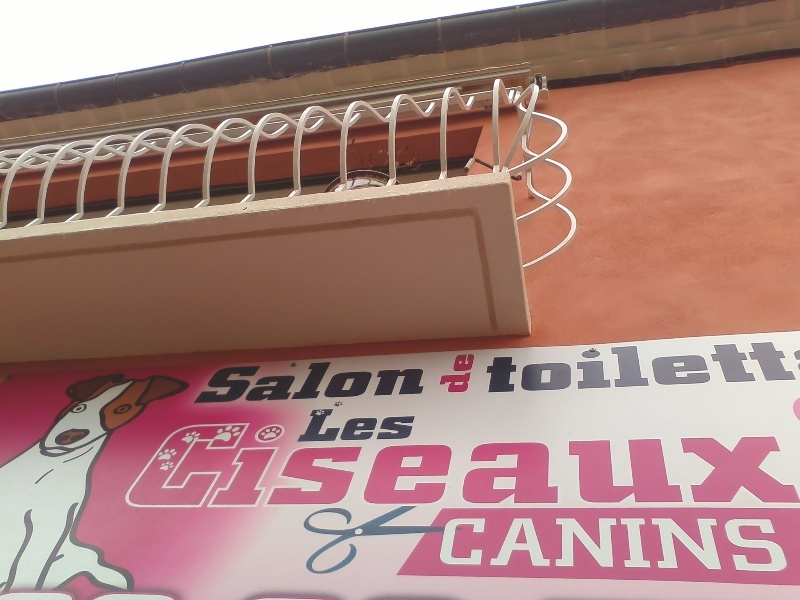text: (193, 419, 208, 509), (209, 419, 224, 509), (225, 419, 240, 509), (241, 419, 256, 509), (257, 419, 272, 509), (273, 419, 288, 509), (289, 419, 304, 509), (305, 419, 320, 509), (321, 419, 336, 509), (337, 419, 352, 509), (353, 419, 368, 509), (369, 419, 384, 509), (385, 419, 400, 509), (401, 419, 416, 509), (417, 419, 432, 509), (433, 419, 448, 509), (449, 419, 464, 509), (465, 419, 480, 509), (481, 419, 496, 509), (497, 419, 512, 509), (513, 419, 528, 509), (529, 419, 544, 509), (545, 419, 560, 509), (561, 419, 576, 509), (577, 419, 592, 509), (593, 419, 608, 509), (609, 419, 624, 509), (625, 419, 640, 509), (641, 419, 656, 509), (657, 419, 672, 509), (673, 419, 688, 509), (689, 419, 704, 509), (705, 419, 720, 509), (721, 419, 736, 509), (737, 419, 752, 509), (753, 419, 768, 509), (769, 419, 784, 509), (785, 419, 800, 509), (179, 419, 192, 509), (449, 515, 464, 574), (465, 515, 480, 574), (481, 515, 496, 574), (497, 515, 512, 574), (513, 515, 528, 574), (529, 515, 544, 574), (545, 515, 560, 574), (561, 515, 576, 574), (577, 515, 592, 574), (593, 515, 608, 574), (609, 515, 624, 574), (625, 515, 640, 574), (641, 515, 656, 574), (657, 515, 672, 574), (673, 515, 688, 574), (689, 515, 704, 574), (705, 515, 720, 574), (721, 515, 736, 574), (737, 515, 752, 574), (753, 515, 768, 574), (769, 515, 784, 574), (497, 338, 512, 395), (513, 338, 528, 395), (529, 338, 544, 395), (545, 338, 560, 395), (561, 338, 576, 395), (577, 338, 592, 395), (593, 338, 608, 395), (609, 338, 624, 395), (625, 338, 640, 395), (641, 338, 656, 395), (657, 338, 672, 395), (673, 338, 688, 395), (689, 338, 704, 395), (705, 338, 720, 395), (721, 338, 736, 395), (737, 338, 752, 395), (753, 338, 768, 395), (769, 338, 784, 395), (785, 338, 800, 395), (225, 358, 240, 405), (241, 358, 256, 405), (257, 358, 272, 405), (273, 358, 288, 405), (289, 358, 304, 405), (305, 358, 320, 405), (321, 358, 336, 405), (337, 358, 352, 405), (353, 358, 368, 405), (369, 358, 384, 405), (385, 358, 400, 405), (401, 358, 416, 405), (417, 358, 432, 405), (449, 354, 464, 394), (321, 407, 336, 443), (337, 407, 352, 443), (353, 407, 368, 443), (369, 407, 384, 443), (385, 407, 400, 443), (401, 407, 416, 443), (465, 354, 476, 394), (489, 338, 496, 395), (433, 358, 440, 405), (311, 407, 320, 443), (785, 515, 790, 574), (218, 358, 224, 405), (417, 407, 420, 443), (446, 354, 448, 394), (447, 515, 448, 574)
